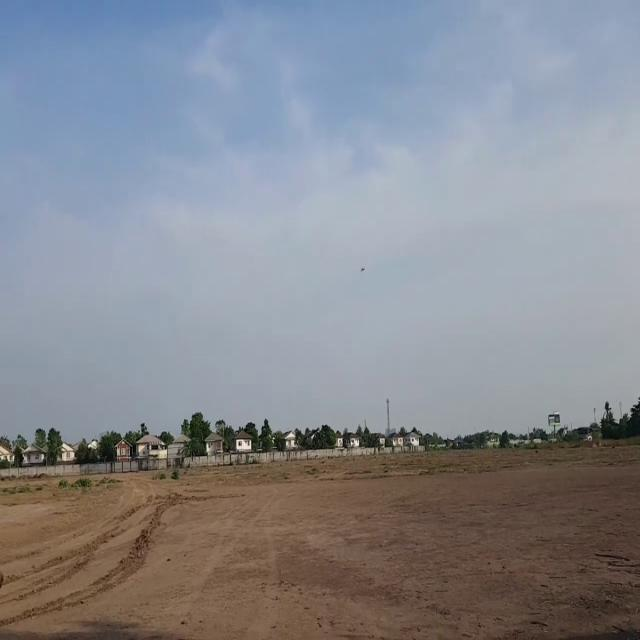iha: (362, 268, 366, 270)
